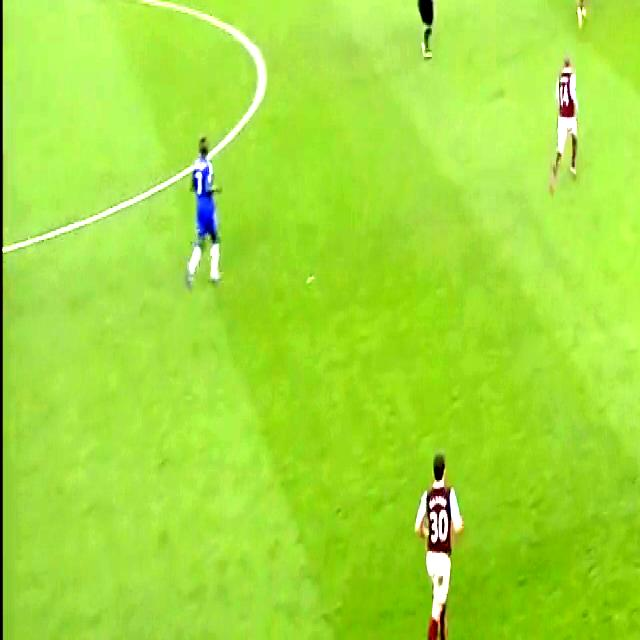referee: (406, 0, 445, 64)
soccer-player: (408, 434, 469, 635), (182, 122, 228, 296), (546, 45, 588, 190), (563, 0, 599, 36)
